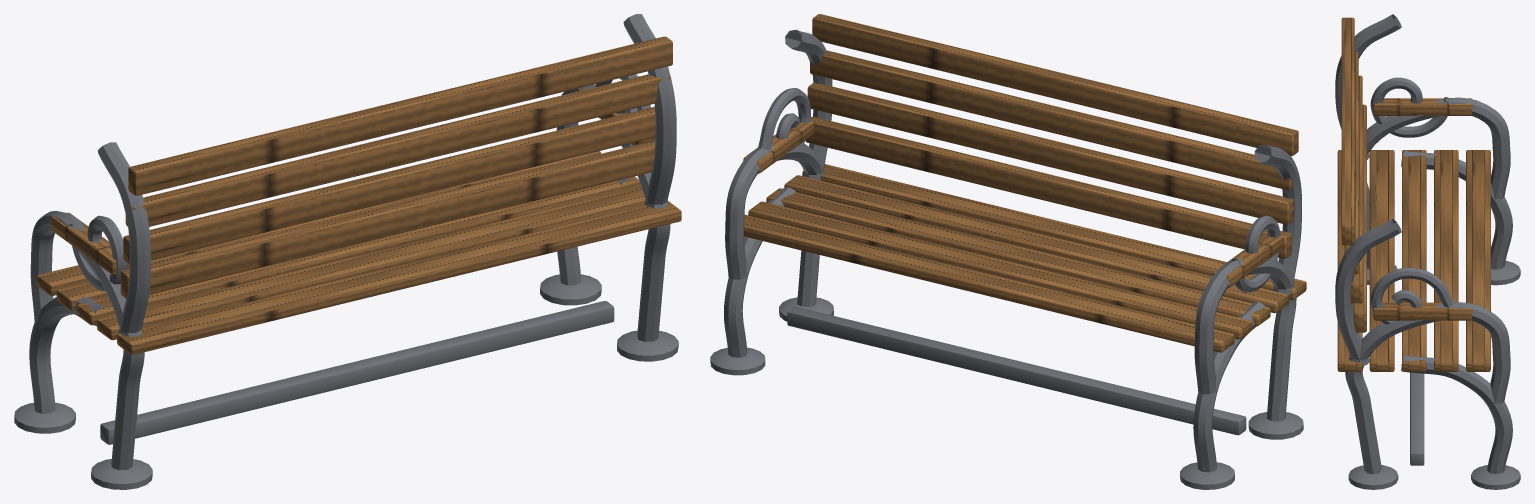
The model's file is th35_bank_zier.glb.
The picture shows the model from 3 angles, left to right: view 1: azimuth 30°, elevation 25°; view 2: azimuth 150°, elevation 25°; view 3: azimuth 270°, elevation 25°; orthographic projection. The views are drawn at different scales.
Visible parts, largest first — view 1: Cube.008, Cube.007, Cube.005, Cube.006, Cube.004, Cube.011, Cube.003, Cube.002, Wange, Lehnpfosten, Lehnpfosten.001, Wange.001 (+10 smaller); view 2: Cube.006, Cube.008, Cube.007, Cube.005, Cube, Cube.011, Cube.001, Cube.003, Cube.002, Cube.004, Wange, Wange.001 (+11 smaller); view 3: Cube, Wange.001, Cube.001, Cube.002, Cube.003, Cube.008, Wange, Lehnpfosten.001, Bein.001, V.001, Bein, Cube.010 (+11 smaller).
Part boxes in pixels (x1=…): Cube.008: x1=128, y1=36, x2=672, y2=195; Cube.007: x1=125, y1=74, x2=670, y2=226; Cube.005: x1=120, y1=140, x2=655, y2=298; Cube.006: x1=123, y1=107, x2=655, y2=264; Cube.004: x1=117, y1=200, x2=681, y2=354; Cube.011: x1=100, y1=301, x2=614, y2=444; Cube.003: x1=97, y1=186, x2=645, y2=340; Cube.002: x1=77, y1=176, x2=641, y2=325; Wange: x1=30, y1=211, x2=144, y2=470; Lehnpfosten: x1=98, y1=142, x2=150, y2=333; Lehnpfosten.001: x1=623, y1=14, x2=676, y2=205; Wange.001: x1=556, y1=85, x2=670, y2=341; Cube.006: x1=807, y1=82, x2=1294, y2=224; Cube.008: x1=812, y1=14, x2=1298, y2=156; Cube.007: x1=810, y1=50, x2=1292, y2=190; Cube.005: x1=805, y1=116, x2=1291, y2=258; Cube: x1=744, y1=214, x2=1234, y2=352; Cube.011: x1=787, y1=306, x2=1246, y2=435; Cube.001: x1=748, y1=201, x2=1252, y2=339; Cube.003: x1=784, y1=175, x2=1288, y2=313; Cube.002: x1=766, y1=188, x2=1270, y2=326; Cube.004: x1=802, y1=164, x2=1306, y2=299; Wange: x1=1194, y1=258, x2=1296, y2=421; Wange.001: x1=725, y1=143, x2=824, y2=306; Cube: x1=1466, y1=150, x2=1490, y2=371; Wange.001: x1=1345, y1=302, x2=1510, y2=474; Cube.001: x1=1434, y1=150, x2=1458, y2=371; Cube.002: x1=1402, y1=150, x2=1426, y2=371; Cube.003: x1=1369, y1=150, x2=1394, y2=371; Cube.008: x1=1341, y1=17, x2=1354, y2=245; Wange: x1=1367, y1=97, x2=1510, y2=268; Lehnpfosten.001: x1=1335, y1=219, x2=1401, y2=366; Bein.001: x1=1401, y1=355, x2=1512, y2=473; V.001: x1=1370, y1=267, x2=1454, y2=324; Bein: x1=1401, y1=150, x2=1512, y2=269; Cube.010: x1=1373, y1=302, x2=1472, y2=320.
Bounding box in the file's own units: 1.83 × 0.9844 × 0.636.
Materials: 2 (1 with a texture image).
